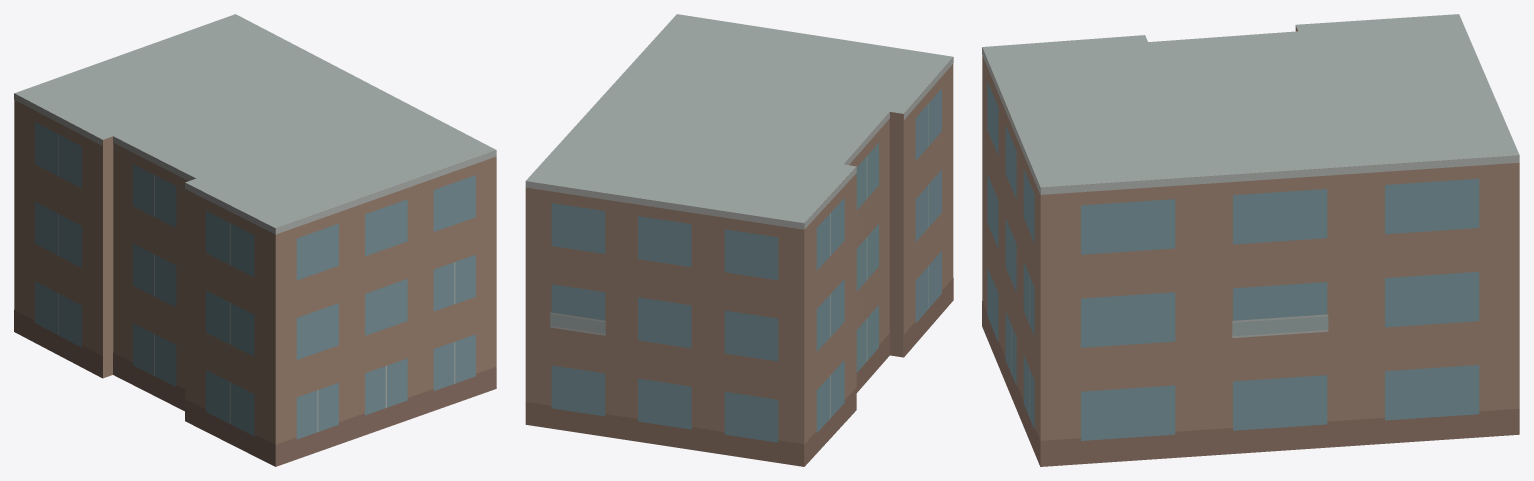
File: survey-upis-32887228.glb
3 views of the same model, side by side, from view 1: azimuth 30°, elevation 25°; view 2: azimuth 150°, elevation 25°; view 3: azimuth 270°, elevation 25° (orthographic). The views are drawn at different scales.
Visible parts, largest first — view 1: survey-upis-32887228.tmp; view 2: survey-upis-32887228.tmp; view 3: survey-upis-32887228.tmp.
Part boxes in pixels (x1,y1,x2,y2): survey-upis-32887228.tmp: [14, 14, 496, 466]; survey-upis-32887228.tmp: [525, 14, 953, 466]; survey-upis-32887228.tmp: [982, 14, 1519, 466].
Size of the model in its own units: 12.2 by 9.15 by 15.97.
